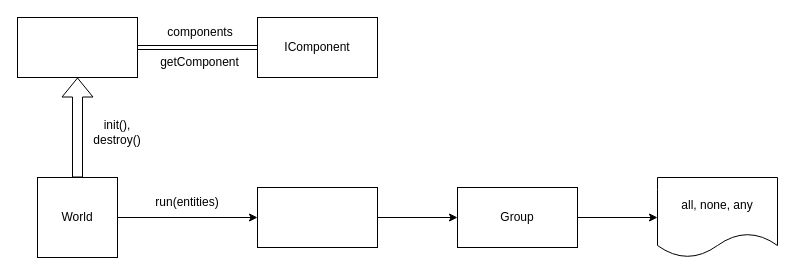
This 795x275 diagram has some shape labels left out. Each missing label, with the centre of its shape:
Entity: pixel 77 47
ISystem: pixel 317 217
